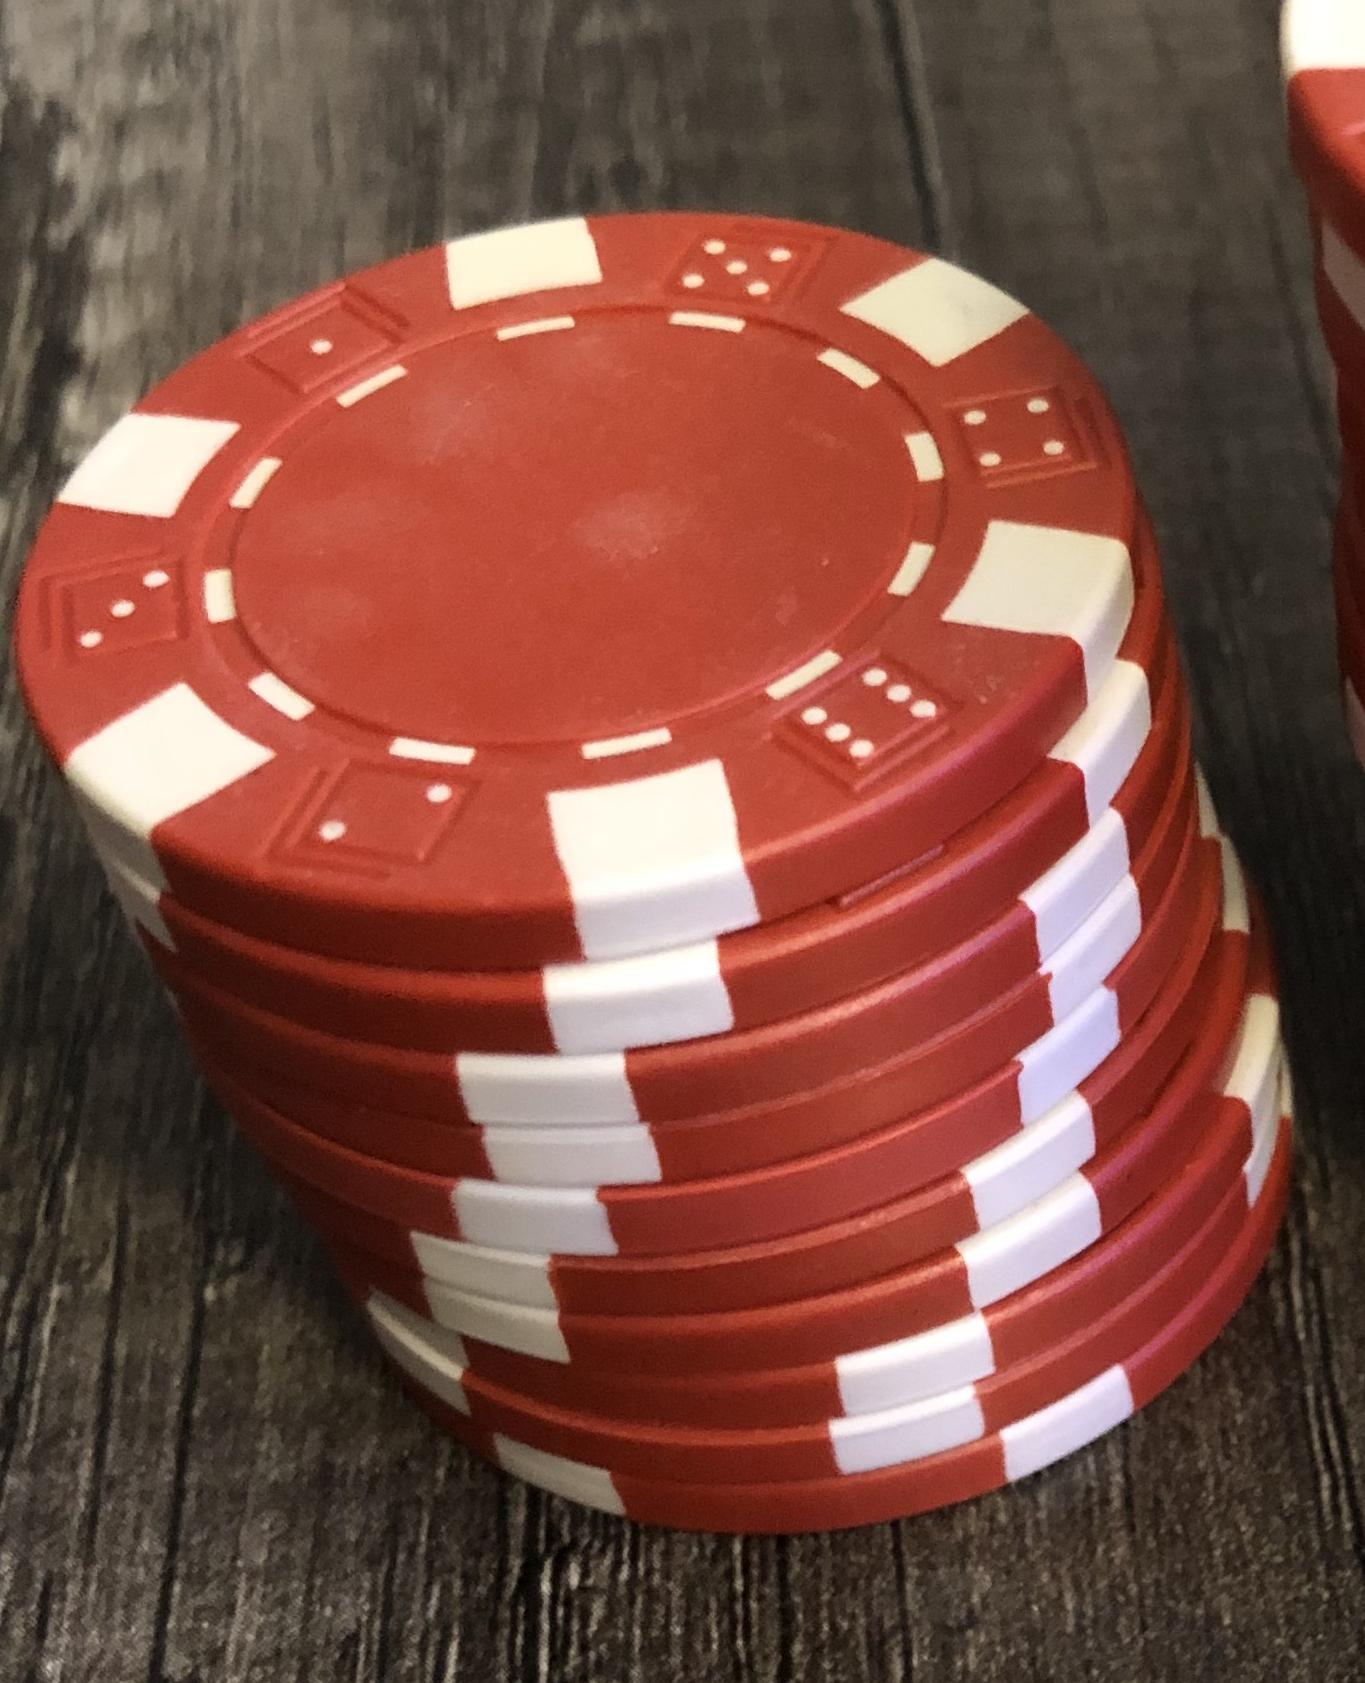Chip: (1, 1, 1365, 1683)
